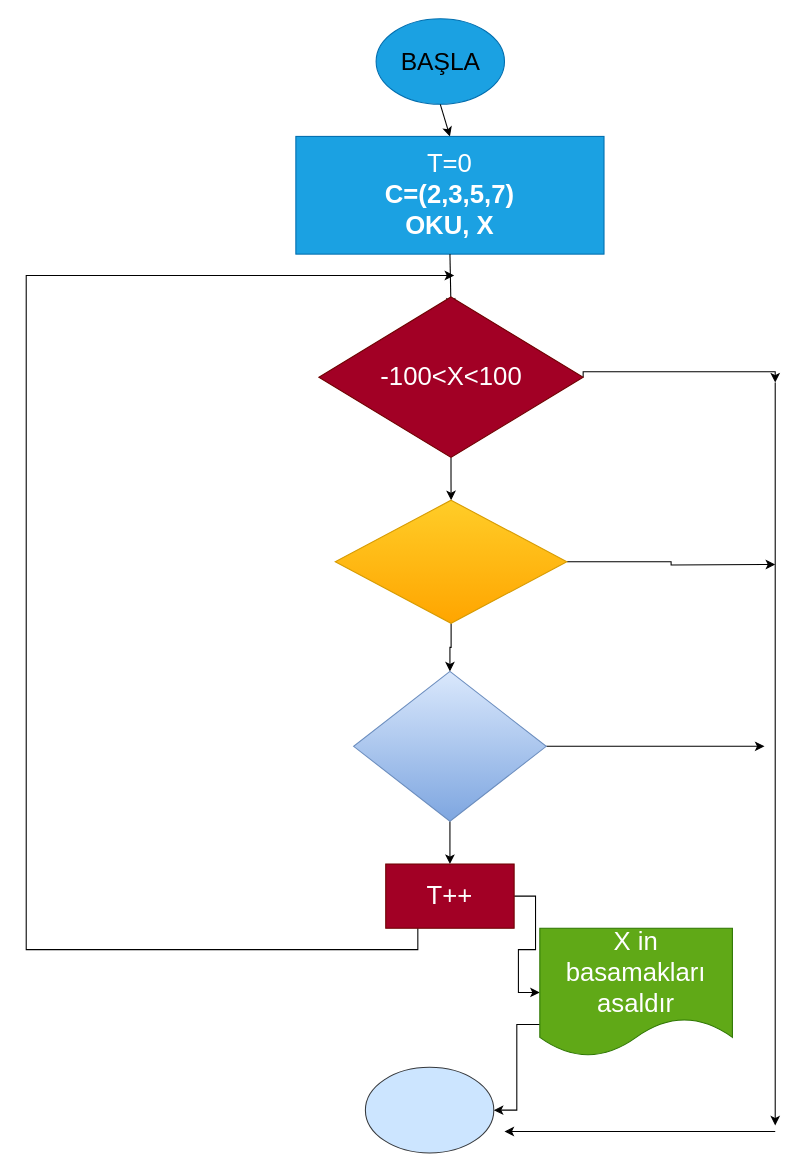
Image size: 803x1172. Some labels were removed from this diagram. Here are the shapes that lost their labels. From the top down, the centre of each, then its label:
At [450,561]: "X>9 II X<-9".
At [449,745]: "C=X/10 && C=X%10".
At [429,1109]: "BİTİR".
